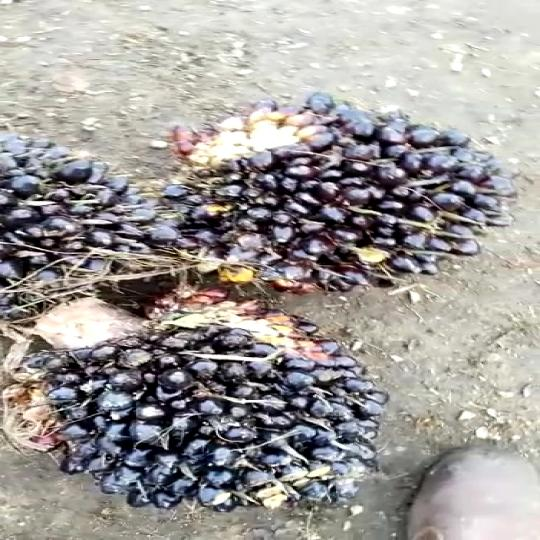mentah: (19, 308, 391, 518), (160, 90, 509, 291)
